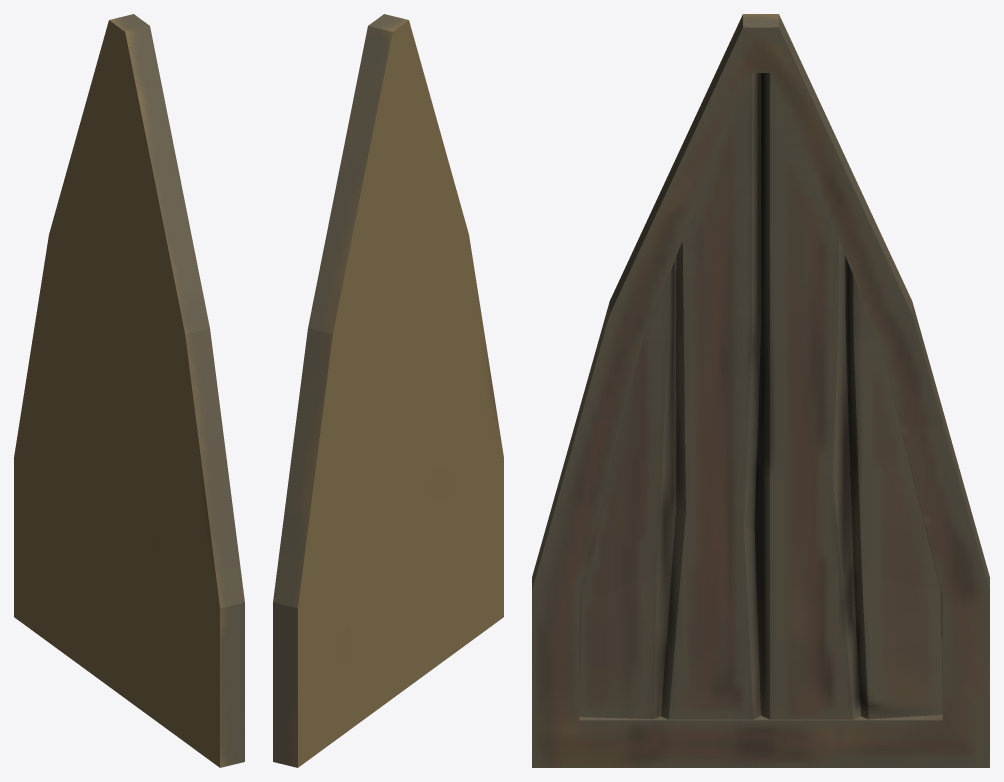
Rendered from Small Window 1.fbx.
3 renders of one model, left to right at view 1: azimuth 30°, elevation 25°; view 2: azimuth 150°, elevation 25°; view 3: azimuth 270°, elevation 25°, orthographic. The views are drawn at different scales.
Visible parts, largest first — view 1: Small Window; view 2: Small Window; view 3: Small Window.
Boxes of the visible parts, box(x1,y1,x2,y2) form: Small Window: box(14, 14, 244, 767); Small Window: box(273, 14, 503, 767); Small Window: box(532, 14, 989, 767).
Size of the model in its own units: 7.97 by 204 by 114.
